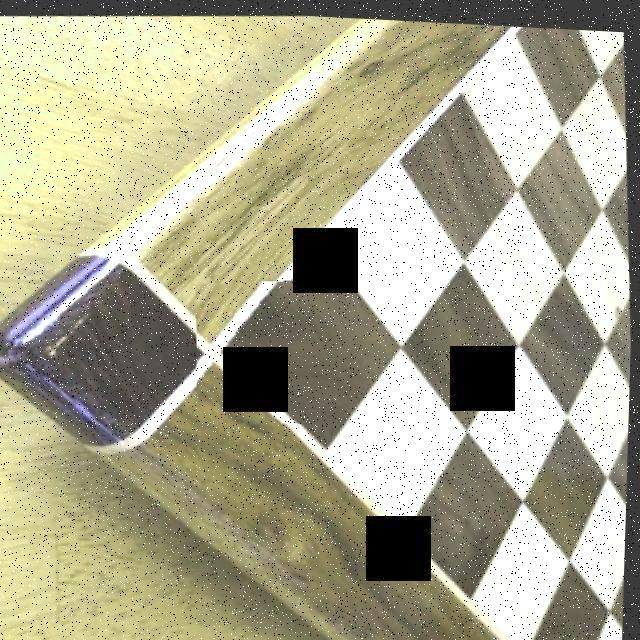chess-table-corners: (193, 273, 320, 427)
